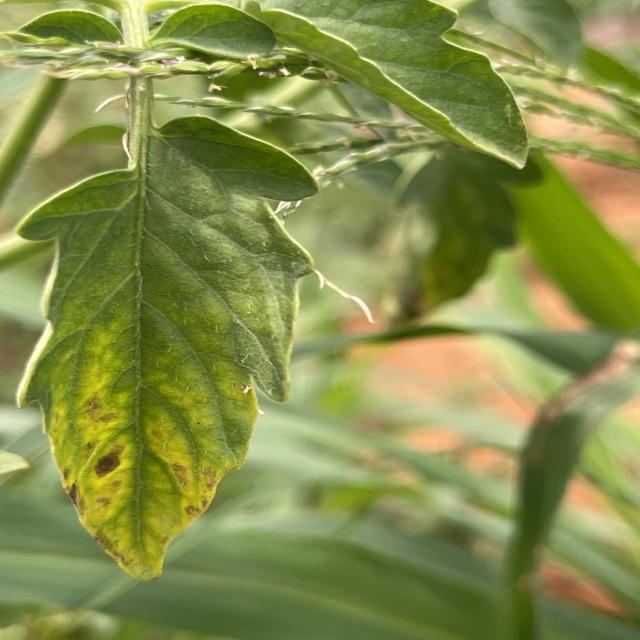tomato_early blight: (11, 113, 318, 588)
